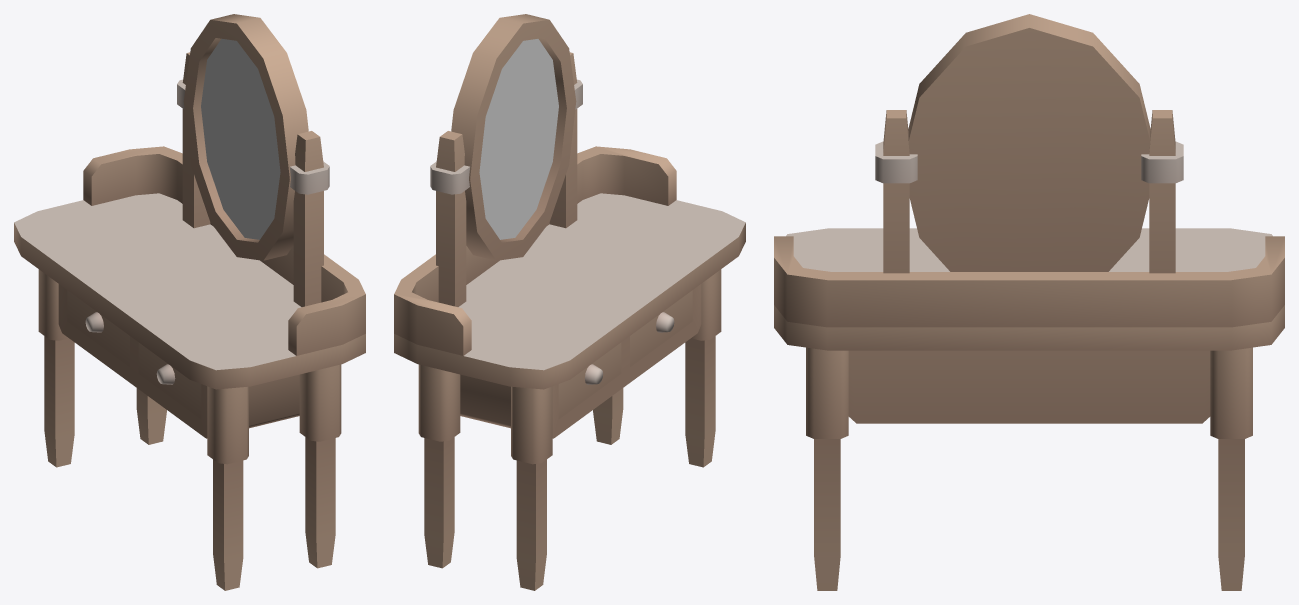
File: vanity-table-classic.glb
The picture shows the model from 3 angles, left to right: view 1: azimuth 30°, elevation 25°; view 2: azimuth 150°, elevation 25°; view 3: azimuth 270°, elevation 25°; orthographic projection. The views are drawn at different scales.
Visible parts, largest first — view 1: vanity-table-classic; view 2: vanity-table-classic; view 3: vanity-table-classic.
Boxes of the visible parts, bbox=[...] form: vanity-table-classic: bbox=[14, 14, 365, 590]; vanity-table-classic: bbox=[394, 14, 745, 590]; vanity-table-classic: bbox=[774, 14, 1284, 590].
Size of the model in its own units: 0.44 by 1.19 by 0.96.
